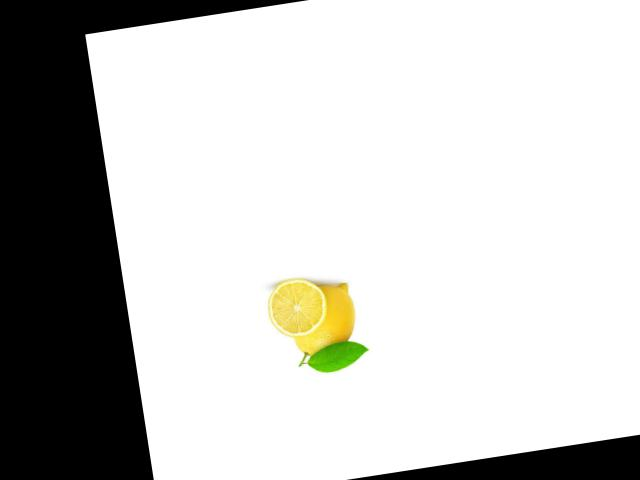lemon: (281, 273, 369, 369)
